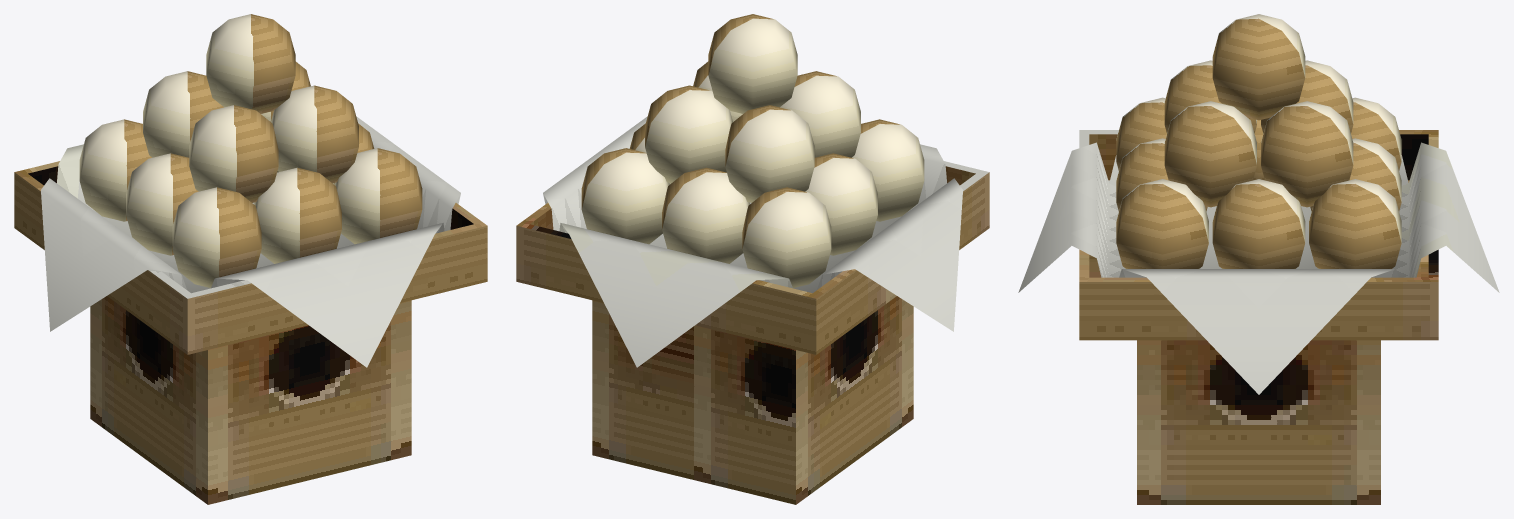
File: int_oth_moondumpling.dae
3 renders of one model, left to right at view 1: azimuth 30°, elevation 25°; view 2: azimuth 150°, elevation 25°; view 3: azimuth 270°, elevation 25°, orthographic. The views are drawn at different scales.
Visible parts, largest first — view 1: int_oth_moondumpling; view 2: int_oth_moondumpling; view 3: int_oth_moondumpling.
Part boxes in pixels (box(x1,y1,x2,y2)): int_oth_moondumpling: box(14, 14, 487, 504); int_oth_moondumpling: box(516, 14, 989, 504); int_oth_moondumpling: box(1018, 14, 1499, 504).
Size of the model in its own units: 30 by 29.87 by 30.
Materials: 1 (1 with a texture image).
